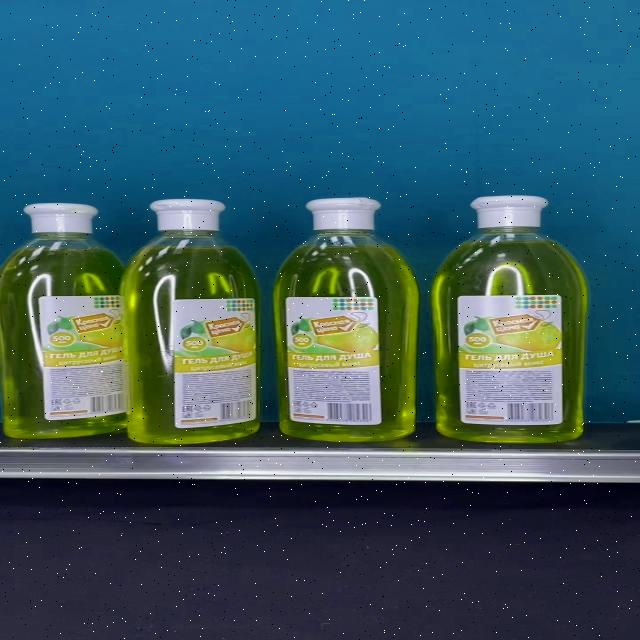Bottle: (429, 195, 588, 443), (272, 198, 420, 442), (121, 199, 261, 444), (0, 203, 129, 438)
Cap: (469, 196, 548, 228), (306, 198, 380, 230), (150, 199, 226, 230), (24, 203, 99, 234)
